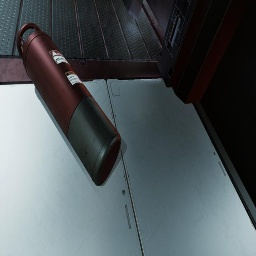NitrogenTank ,: (17, 22, 121, 186)
